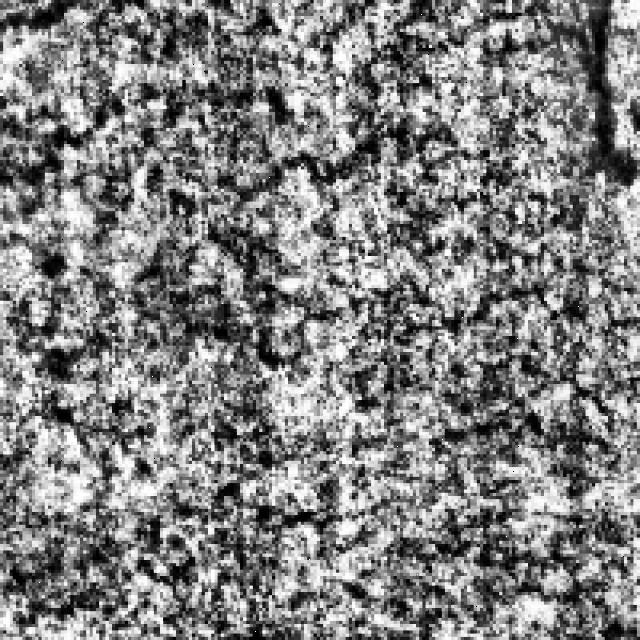Pitted_Surface: (141, 125, 621, 461)
